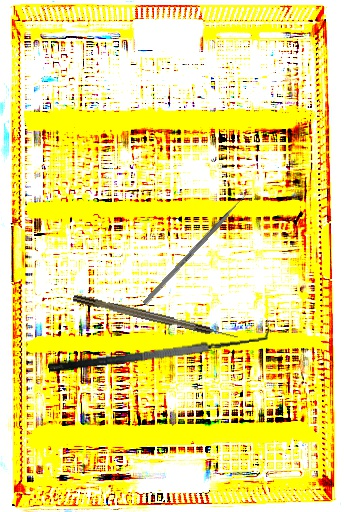Hook Surgical: (72, 292, 239, 343)
Pusher: (142, 185, 255, 306)
Spatula Surgical: (45, 320, 272, 375)
